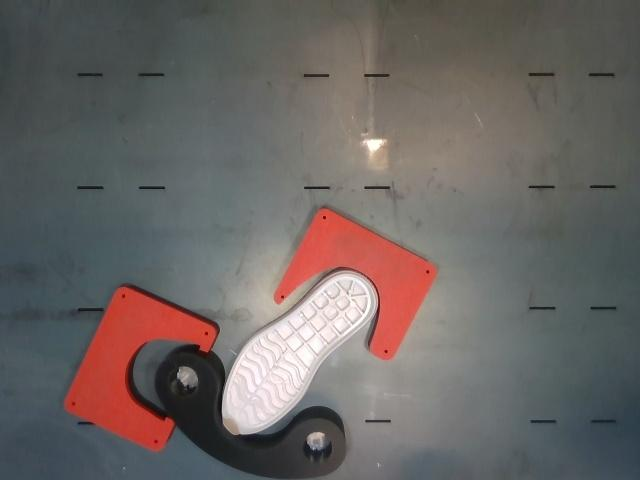shoes: (222, 276, 375, 435)
